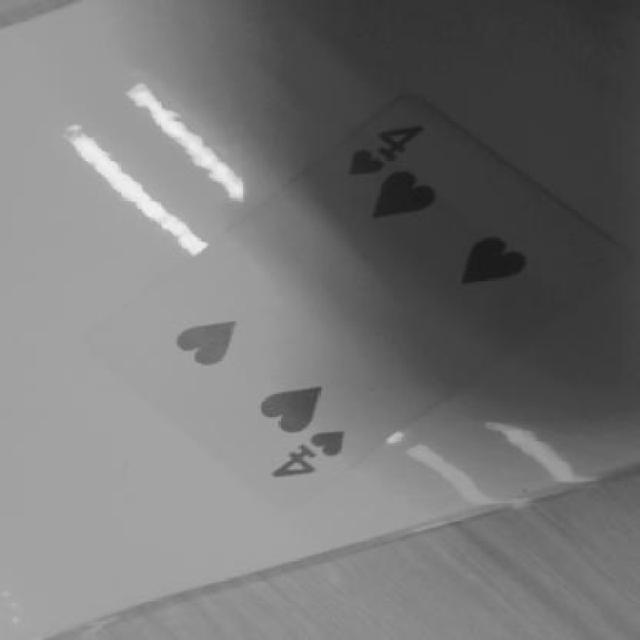4H: (233, 408, 362, 514), (325, 104, 446, 182)
